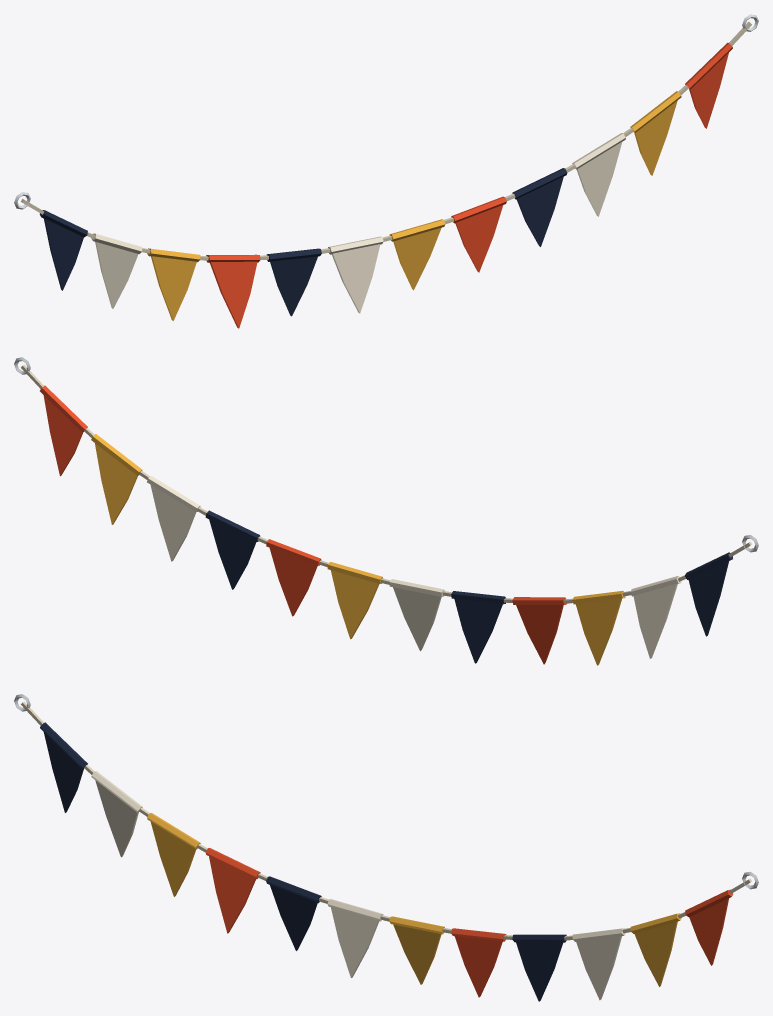
File: Lobby_Bunting.fbx
The picture shows the model from 3 angles, top to bottom: view 1: azimuth 30°, elevation 25°; view 2: azimuth 150°, elevation 25°; view 3: azimuth 330°, elevation 25°; orthographic projection.
Visible parts, largest first — view 1: FlagsCream, FlagsRed, FlagsNavy, FlagsMustard, Cord; view 2: FlagsMustard, FlagsCream, FlagsNavy, FlagsRed, Cord; view 3: FlagsCream, FlagsRed, FlagsMustard, FlagsNavy, Cord.
Part boxes in pixels (bbox=[...]): FlagsCream: bbox=[91, 133, 625, 313]; FlagsRed: bbox=[206, 42, 732, 328]; FlagsNavy: bbox=[39, 168, 567, 316]; FlagsMustard: bbox=[147, 91, 681, 320]; Cord: bbox=[21, 21, 751, 260]; FlagsMustard: bbox=[91, 434, 625, 665]; FlagsCream: bbox=[147, 475, 681, 658]; FlagsNavy: bbox=[205, 510, 732, 663]; FlagsRed: bbox=[40, 385, 566, 664]; Cord: bbox=[21, 364, 751, 603]; FlagsCream: bbox=[91, 771, 625, 1000]; FlagsRed: bbox=[205, 848, 733, 997]; FlagsMustard: bbox=[147, 813, 681, 986]; FlagsNavy: bbox=[40, 722, 566, 1001]; Cord: bbox=[21, 701, 751, 940].
Bounding box in the file's own units: 1228 × 315 × 33.15.
